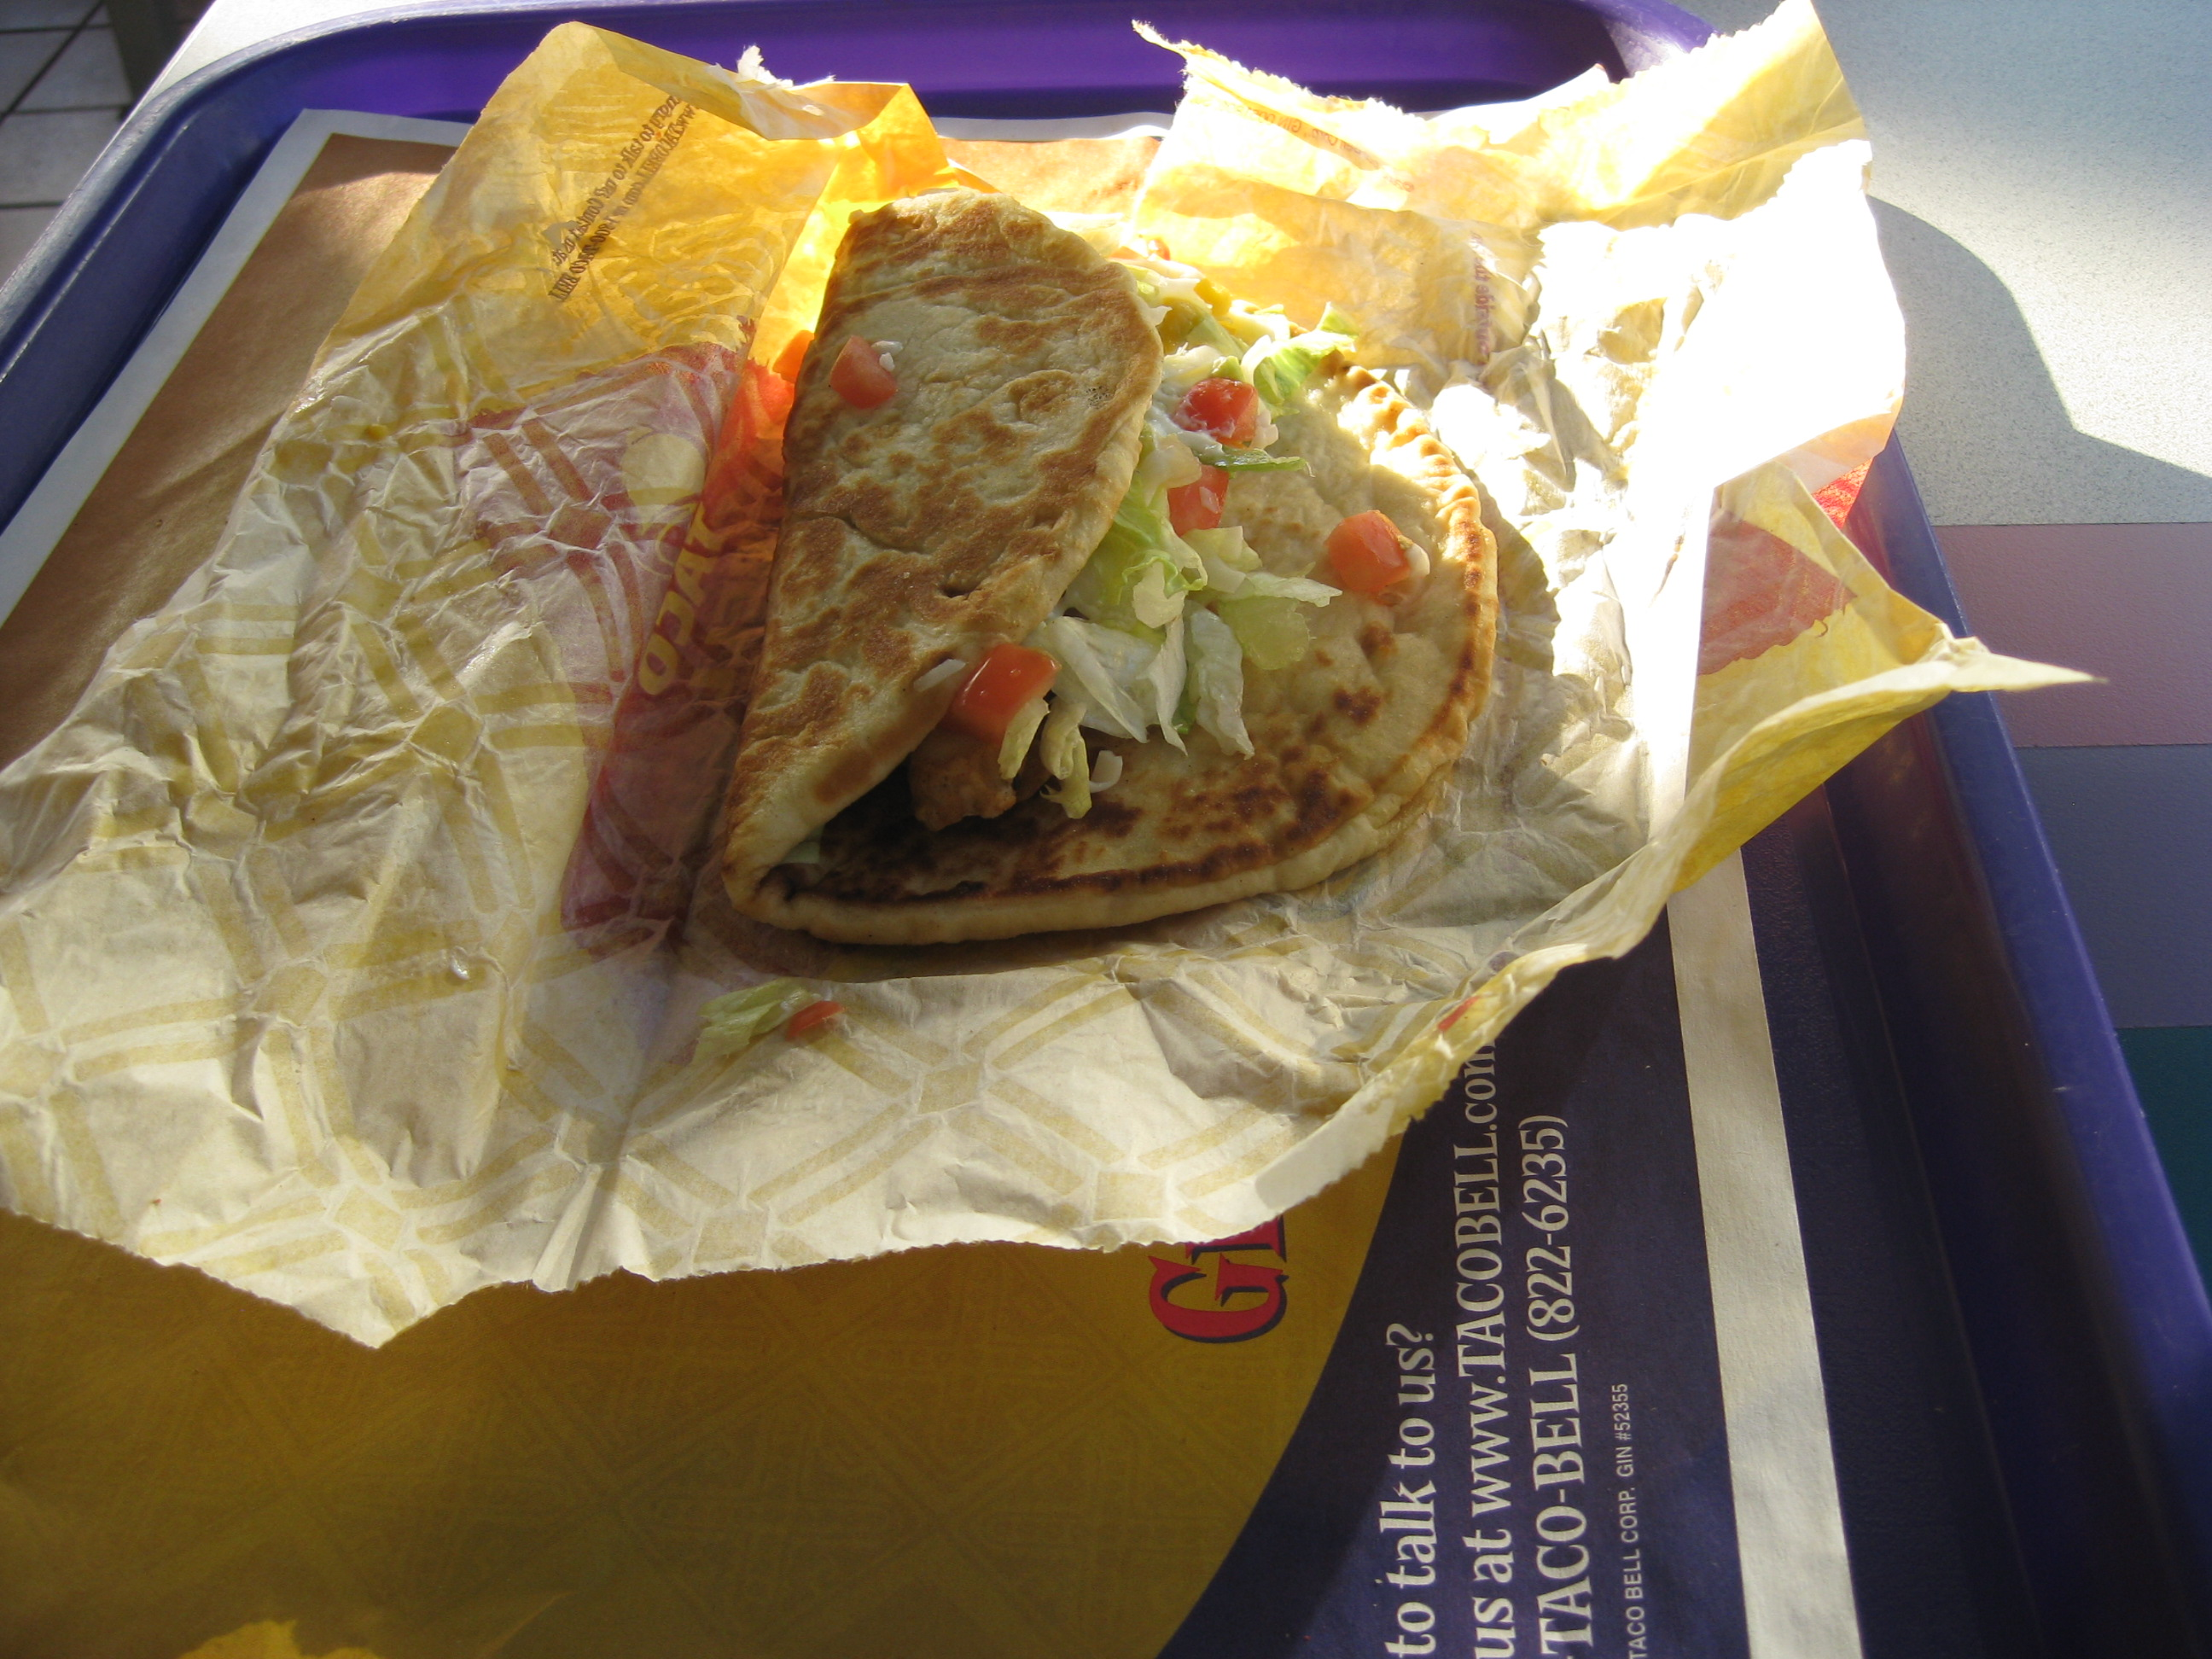taco: (717, 159, 1523, 963)
